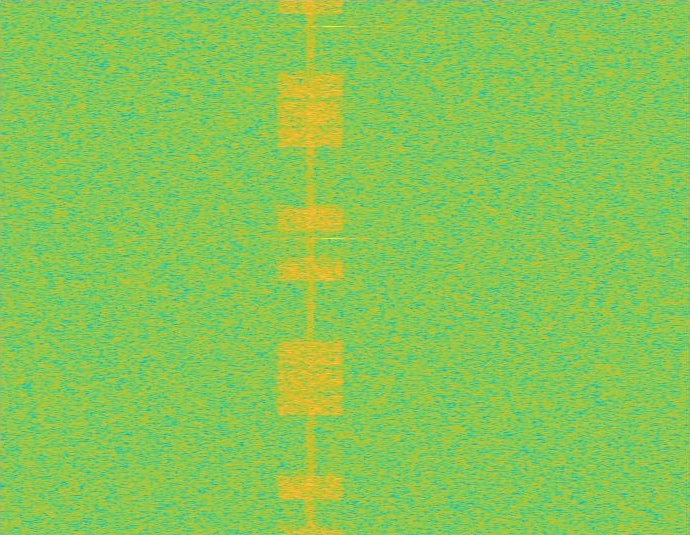DSSS: (306, 0, 315, 534)
LTE: (276, 0, 345, 534)
Radar: (326, 0, 340, 534)
